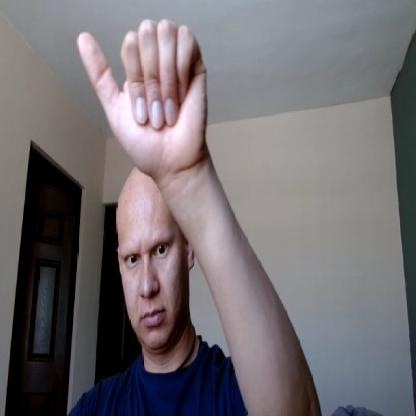A: (77, 19, 208, 175)
